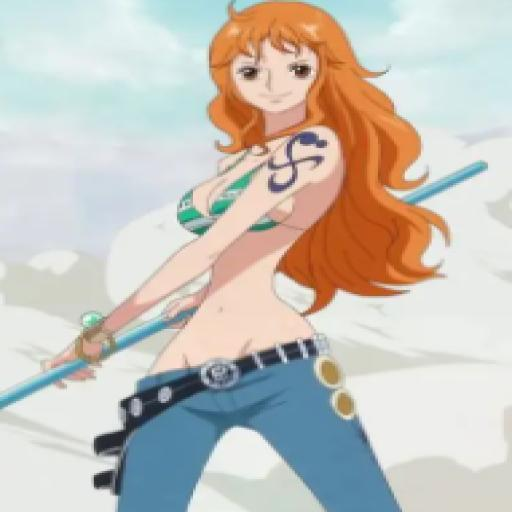Nami: (4, 2, 453, 512)
